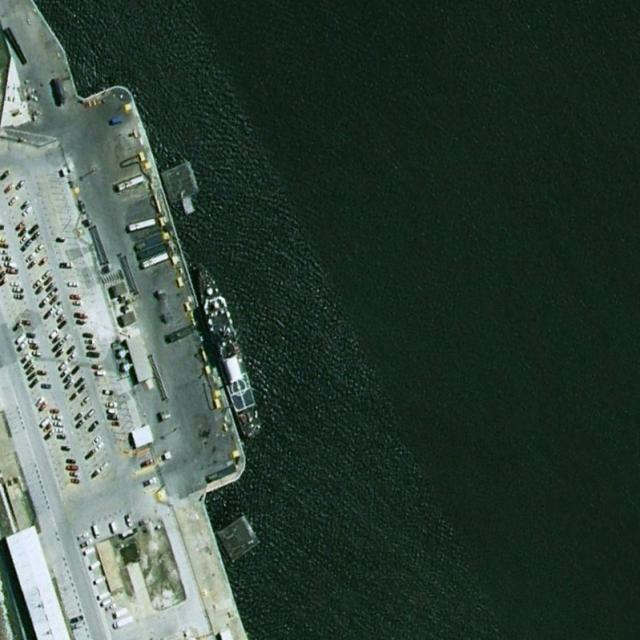Frigate: (189, 252, 266, 438)
